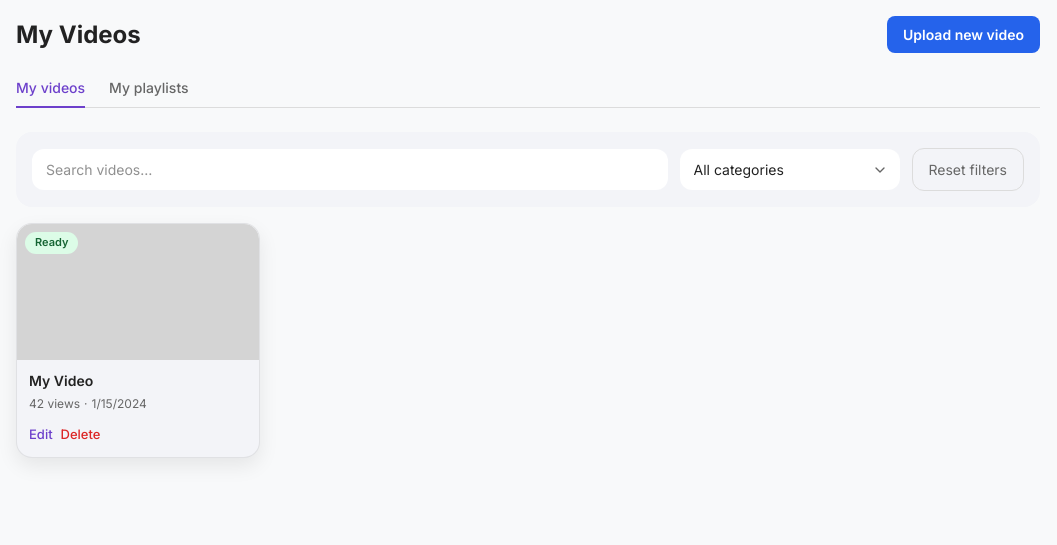
DashboardPage › shows delete error when deleteVideo throws
Click the button with aria-label "delete my video" at (81, 435), box [61,425,100,444]
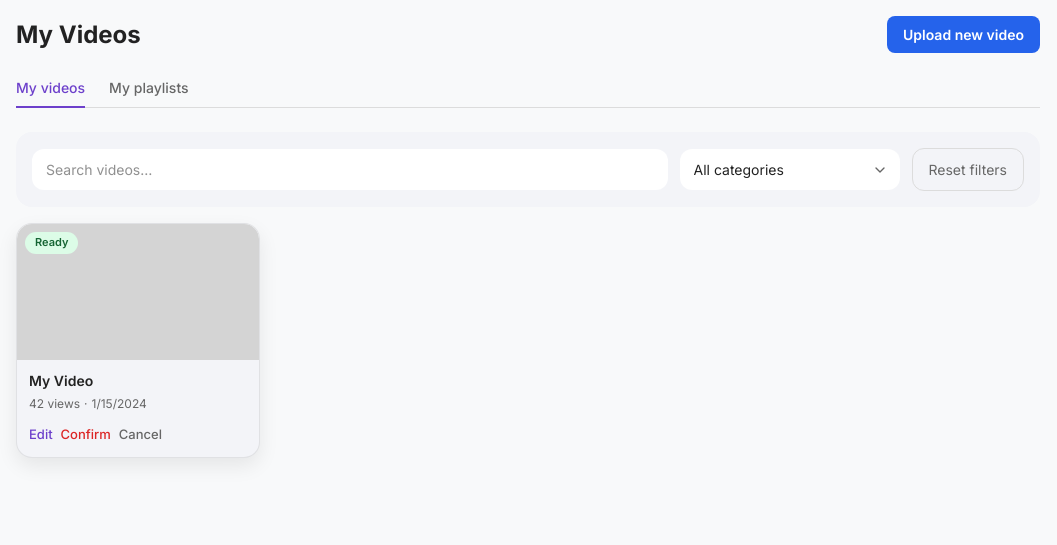
Expected: the button "Confirm" is shown
Click the button "Confirm" at (86, 435), box [61,425,111,444]
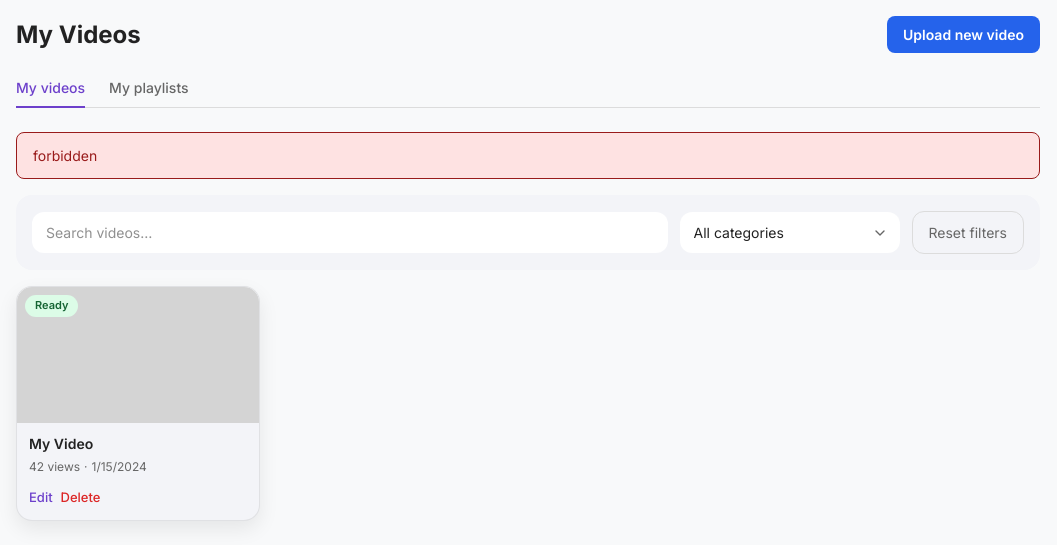
Expected: the message reads "forbidden", [33,147,97,164]
